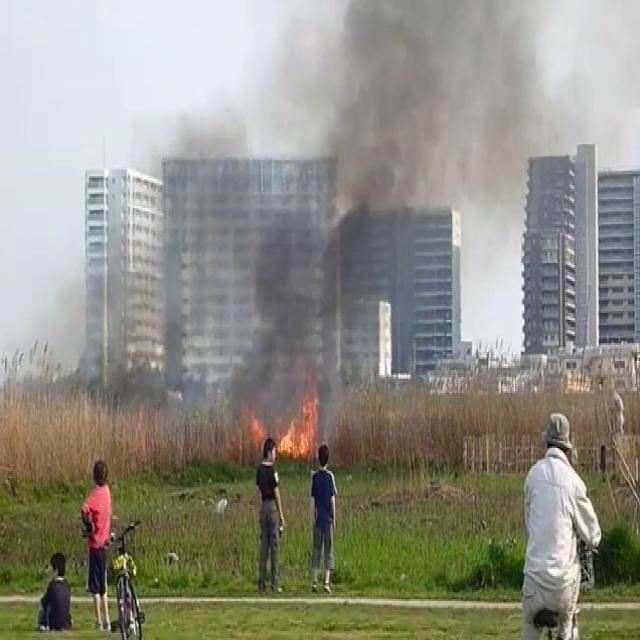Fire: (274, 381, 326, 463)
Smoke: (169, 0, 524, 412)
